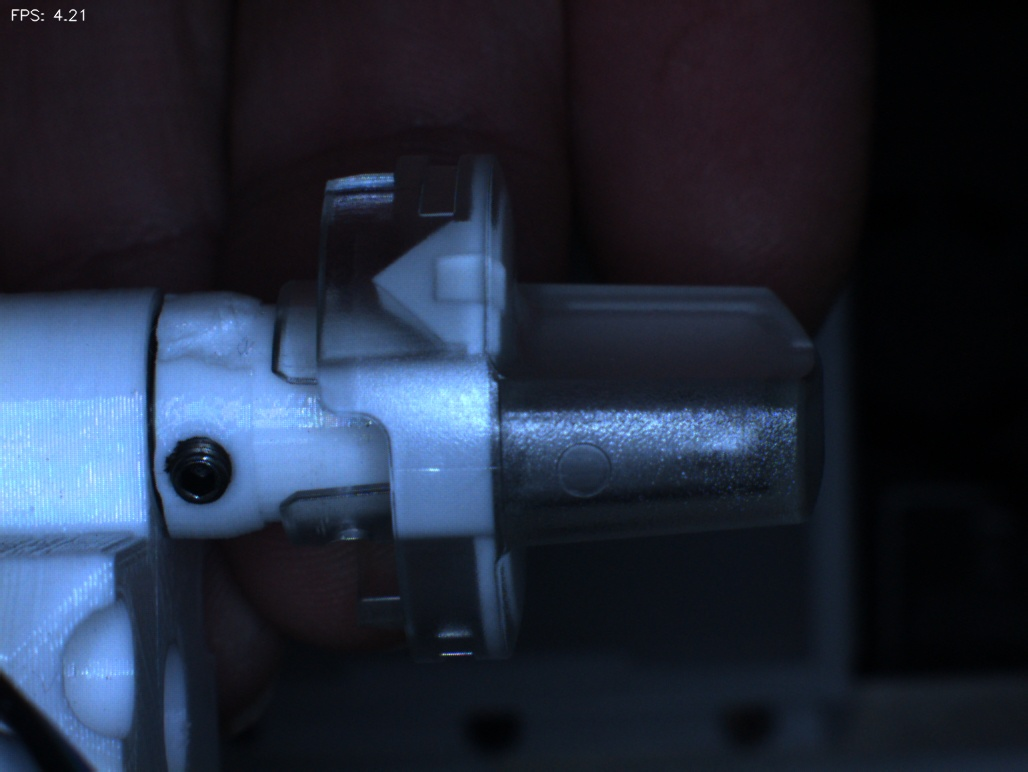DentOk: (356, 240, 424, 342)
